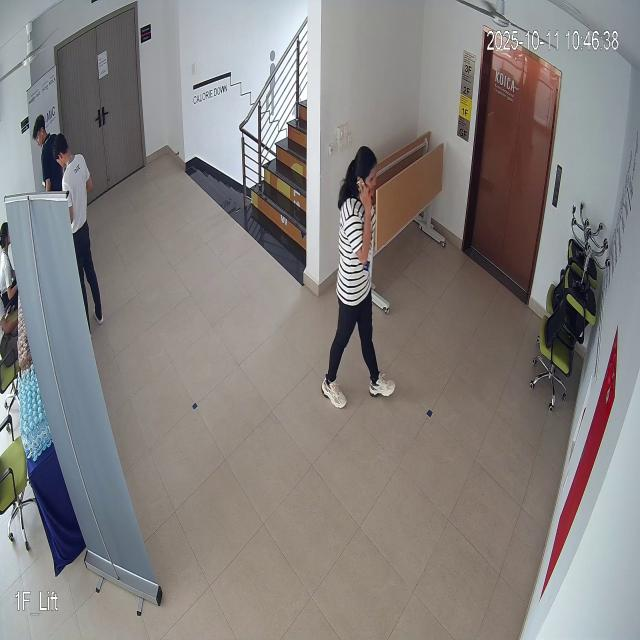face: (347, 142, 377, 204)
